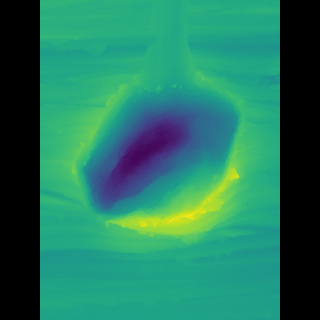Loch: (90, 70, 229, 248)
